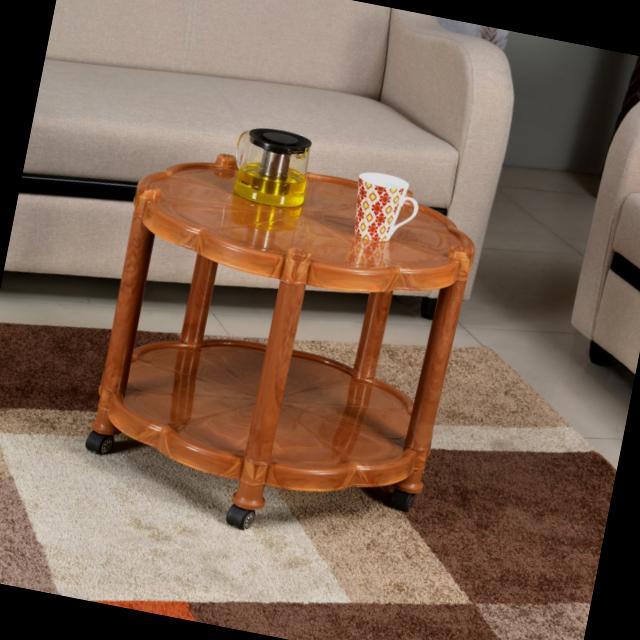obstacle: (0, 85, 513, 576)
